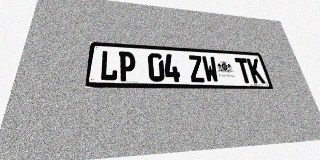0: (148, 53, 165, 82)
4: (163, 54, 181, 82)
K: (246, 58, 266, 83)
L: (99, 50, 118, 81)
P: (118, 51, 135, 81)
T: (234, 58, 253, 83)
W: (201, 56, 220, 83)
Z: (187, 55, 206, 82)
